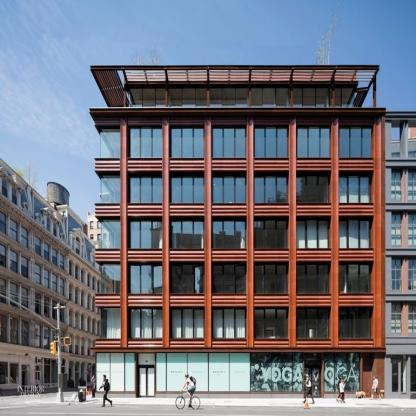Building Outline: (89, 65, 385, 398)
Dont: (175, 374, 201, 409), (354, 375, 382, 401), (302, 375, 316, 409), (98, 374, 112, 407), (336, 376, 346, 404), (91, 375, 96, 398)
Door: (138, 365, 154, 398), (305, 366, 321, 398)
Door Hole: (135, 351, 156, 398), (303, 351, 324, 398)
Facade: (100, 107, 385, 398)
Floor: (100, 117, 385, 163), (100, 213, 385, 254), (100, 259, 385, 299), (100, 168, 385, 208), (100, 304, 385, 343)
Floor Slab: (93, 113, 386, 118), (95, 300, 385, 305), (95, 254, 385, 259), (95, 208, 385, 213), (95, 163, 385, 168), (95, 343, 385, 348)
Ground Floor: (95, 348, 385, 398)
Roof: (90, 65, 380, 107)
Top Floor: (123, 82, 357, 113)
Window: (156, 352, 303, 391), (129, 89, 355, 108), (95, 352, 135, 391), (325, 352, 361, 391), (339, 308, 373, 339), (128, 308, 162, 339), (170, 308, 204, 339), (212, 308, 246, 339), (254, 308, 288, 339), (296, 308, 330, 339), (339, 126, 373, 157), (128, 126, 162, 157), (170, 126, 204, 157), (212, 126, 246, 157), (254, 126, 288, 157), (296, 126, 330, 157), (339, 173, 373, 204), (128, 173, 162, 204), (170, 173, 204, 204), (212, 173, 246, 204), (254, 173, 288, 204), (296, 173, 330, 204), (339, 217, 373, 248), (128, 217, 162, 248), (170, 217, 204, 248), (212, 217, 246, 248), (254, 217, 288, 248), (296, 217, 330, 248), (339, 263, 373, 294), (128, 263, 162, 294), (170, 263, 204, 294), (212, 263, 246, 294), (254, 263, 288, 294), (296, 263, 330, 294), (100, 126, 120, 157), (100, 173, 120, 204), (100, 217, 120, 248), (100, 263, 120, 294), (100, 308, 120, 339)
